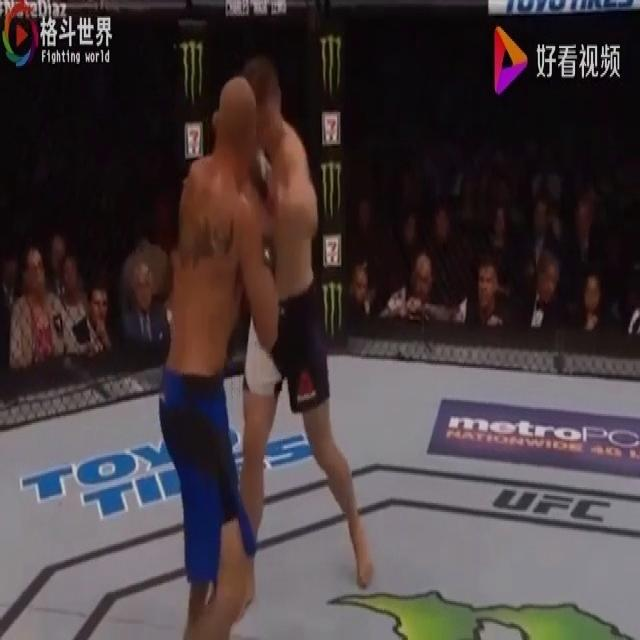fight: (154, 50, 364, 638)
